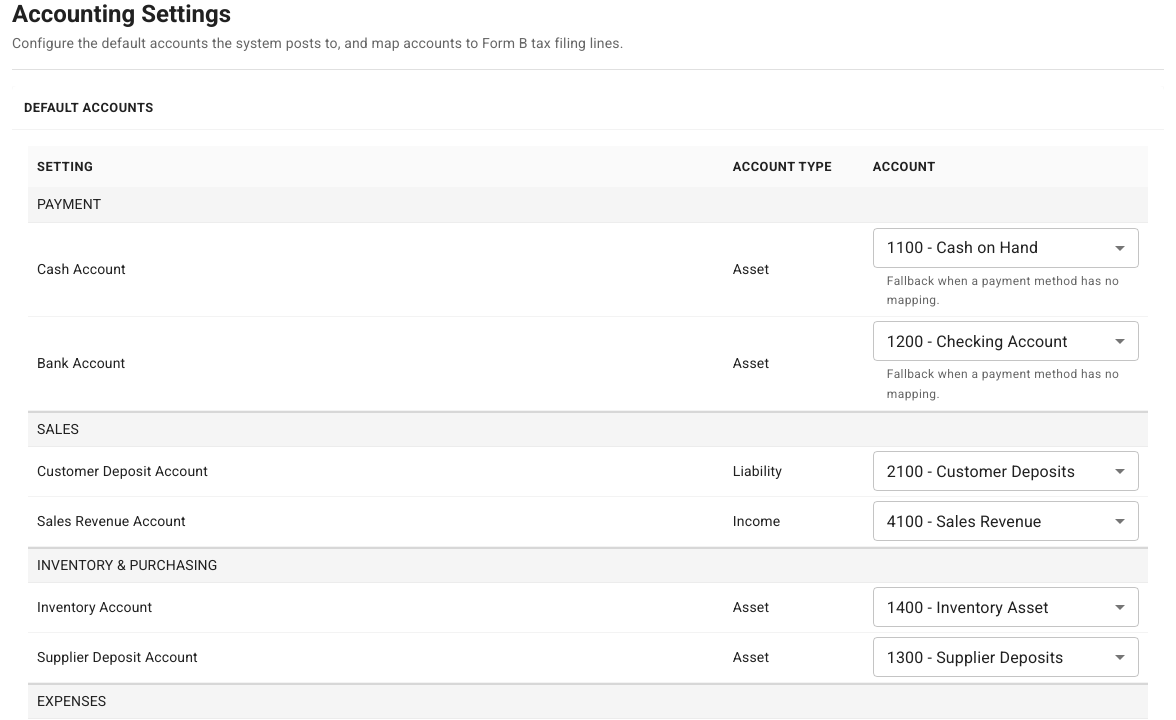
it: AccountingSettingsPage › Cancel is disabled while pristine and enabled once a field changes
Click the dropdown named "Cash Account": (962, 248) [887,238,1038,257]
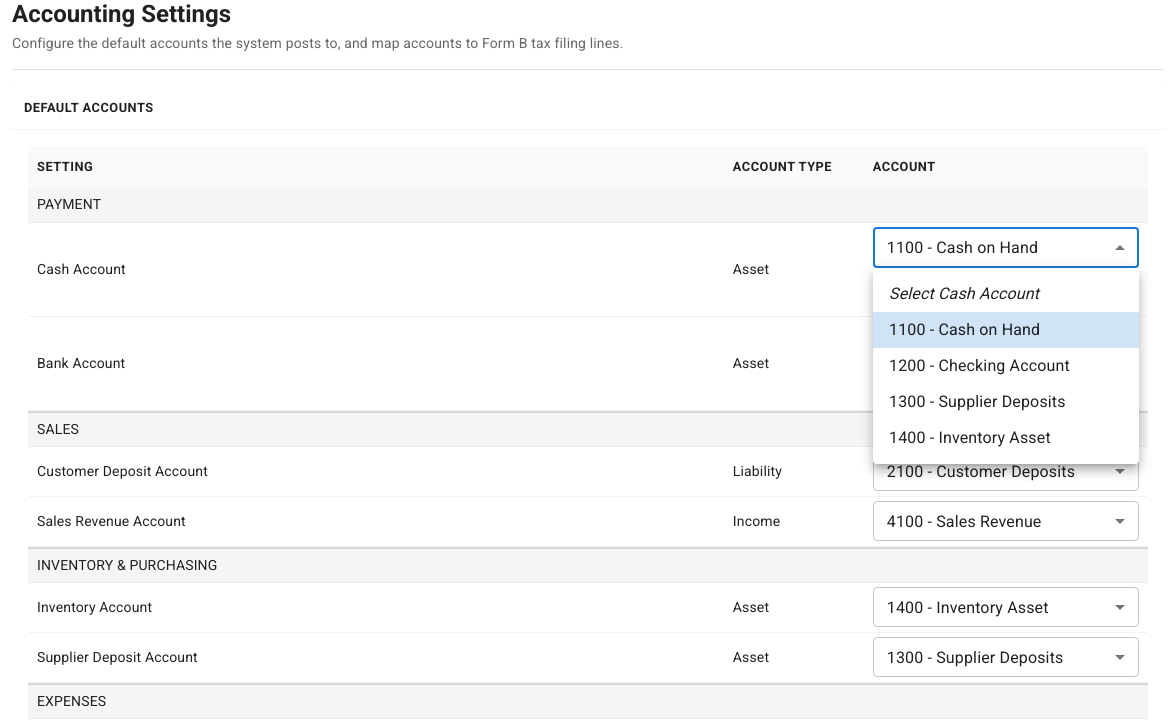
Click the option "1200 - Checking Account": (979, 366) [889,356,1070,375]
(page scrolled)
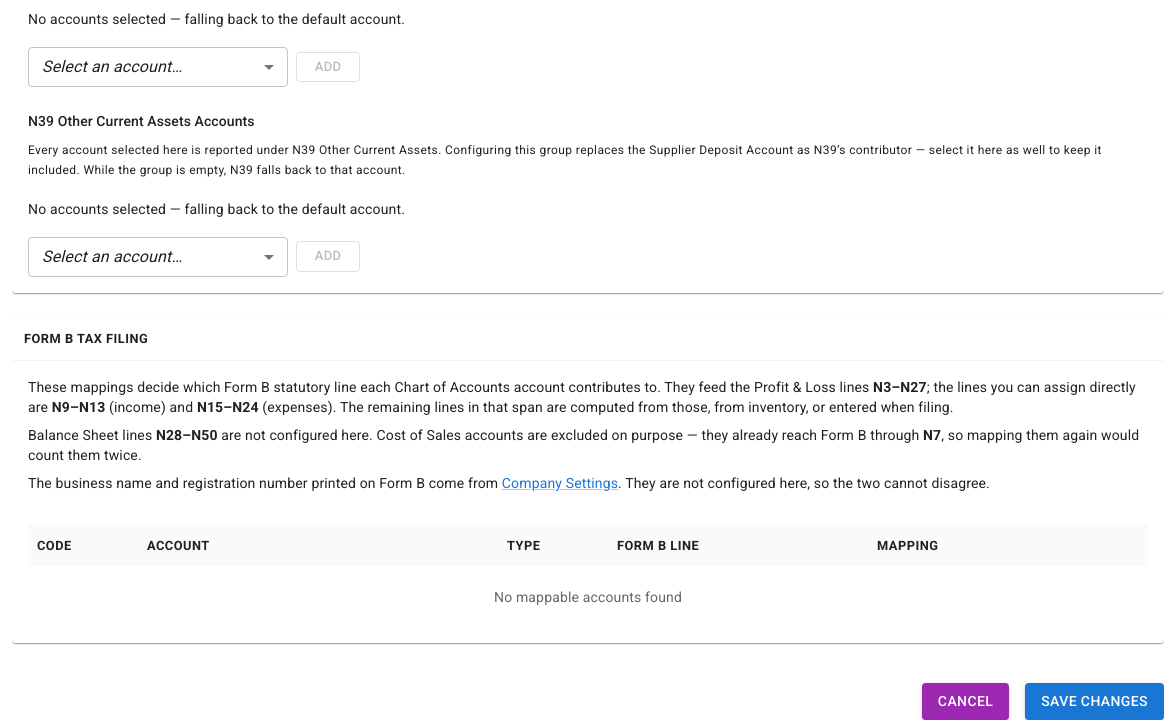
Expected: the button "Cancel" is enabled, [922,683,1009,719]
